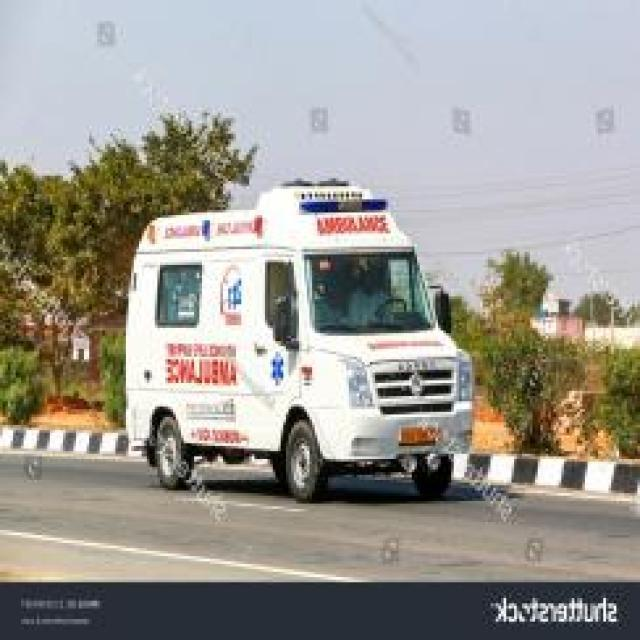Ambulance: (0, 165, 637, 579), (118, 178, 478, 504), (0, 440, 637, 582)
